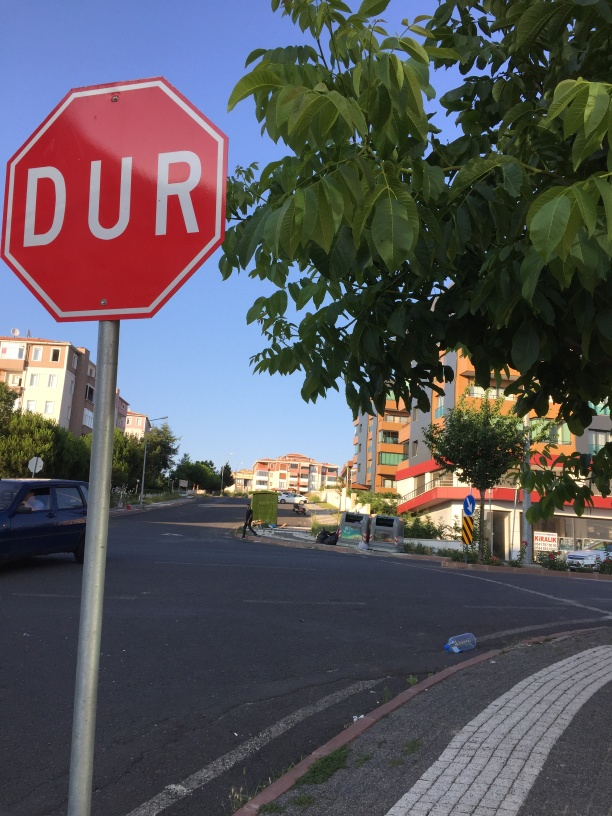arac_dur_isareti: (7, 46, 237, 527)
